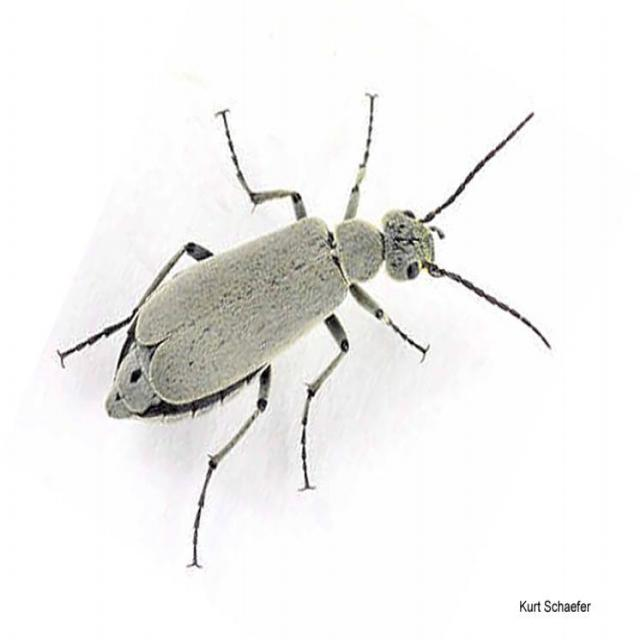BlisterBeetle-Adult-: (48, 80, 555, 540)
